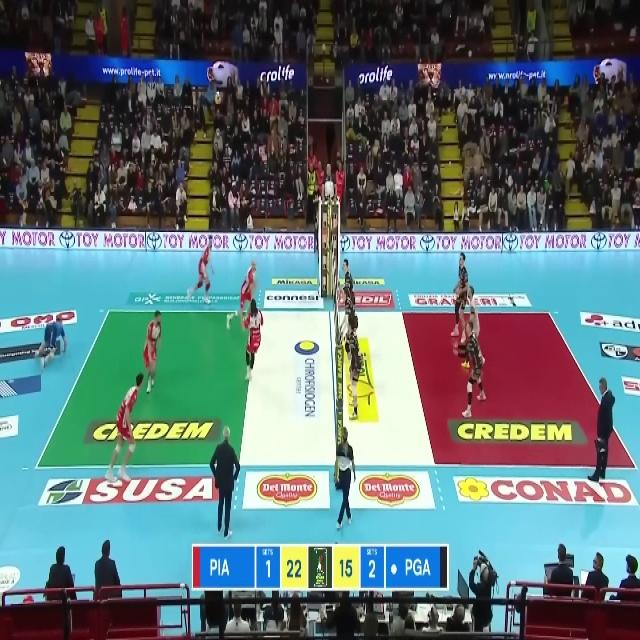volleyball court: (36, 310, 638, 468)
